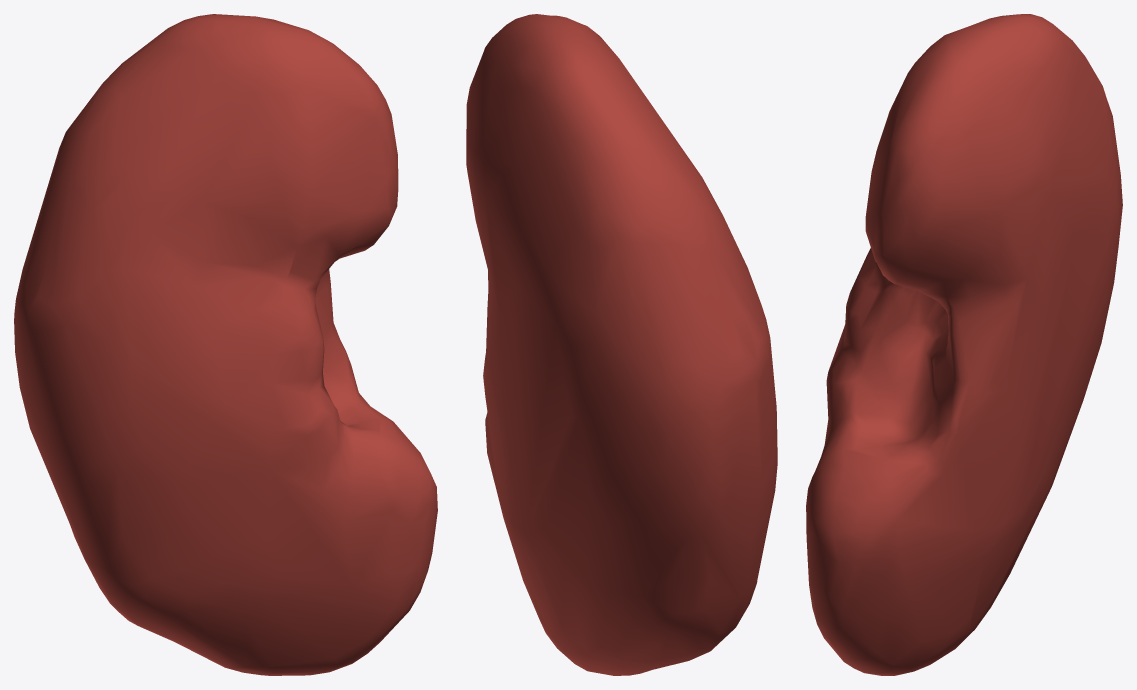
Rendered from visceras-kidney-r.glb.
The picture shows the model from 3 angles, left to right: view 1: azimuth 30°, elevation 25°; view 2: azimuth 150°, elevation 25°; view 3: azimuth 270°, elevation 25°; orthographic projection. The views are drawn at different scales.
Parts seen in each view (by area): view 1: Kidney.r; view 2: Kidney.r; view 3: Kidney.r.
Boxes of the visible parts, x1,y1,x2,y2 form: Kidney.r: (14, 14, 437, 675); Kidney.r: (466, 14, 777, 675); Kidney.r: (806, 14, 1122, 675).
Size of the model in its own units: 0.0571 by 0.1043 by 0.0471.
